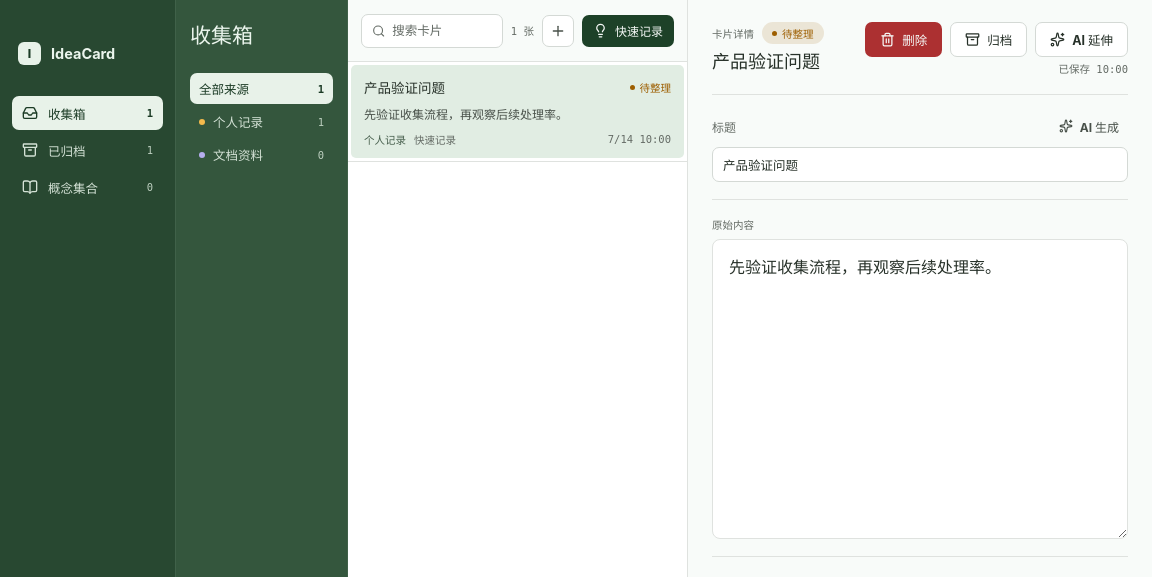
InboxPage › deletes an archived card only after confirmation
Click the button "已归档 1" at (88, 150), box [12, 133, 163, 167]
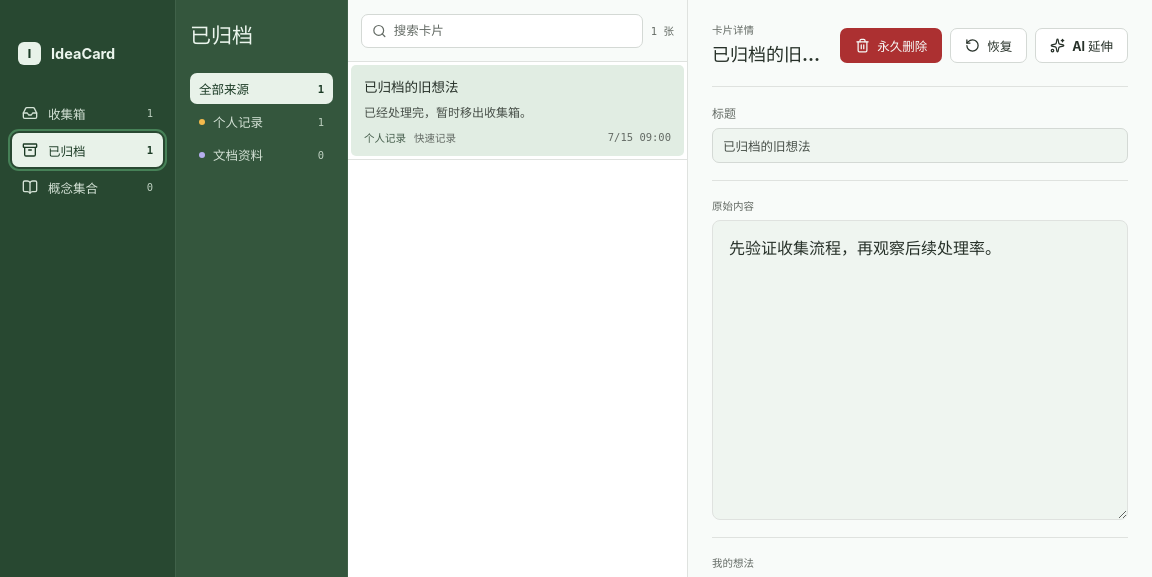
Result: the heading "已归档的旧想法" is shown at [712, 42, 824, 68]
Click the button "永久删除" at (891, 45), box [840, 28, 942, 62]
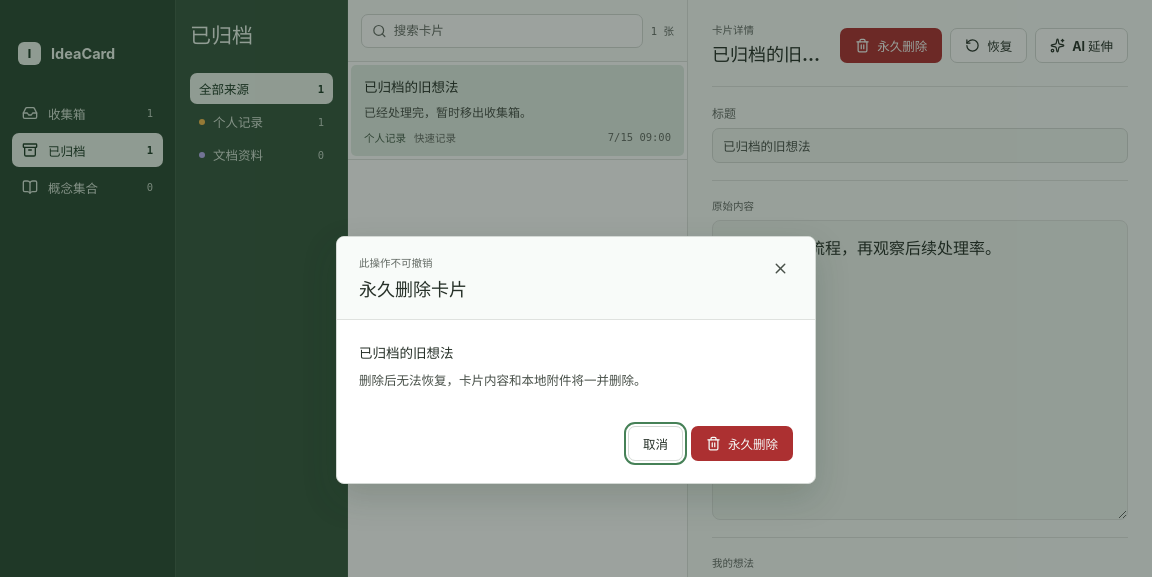
Click the button "永久删除" at (742, 443), box [691, 426, 793, 461]
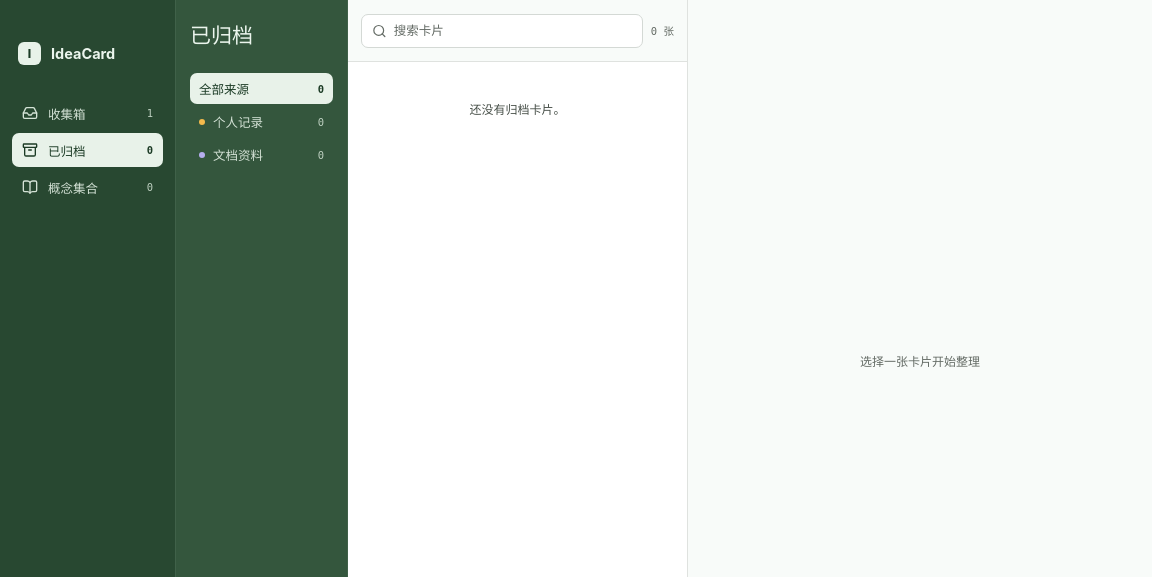
Result: the heading "永久删除卡片" is gone
Result: the text "还没有归档卡片。" is shown at [470, 102, 566, 117]
Result: the button "已归档 0" is shown at [12, 133, 163, 167]
